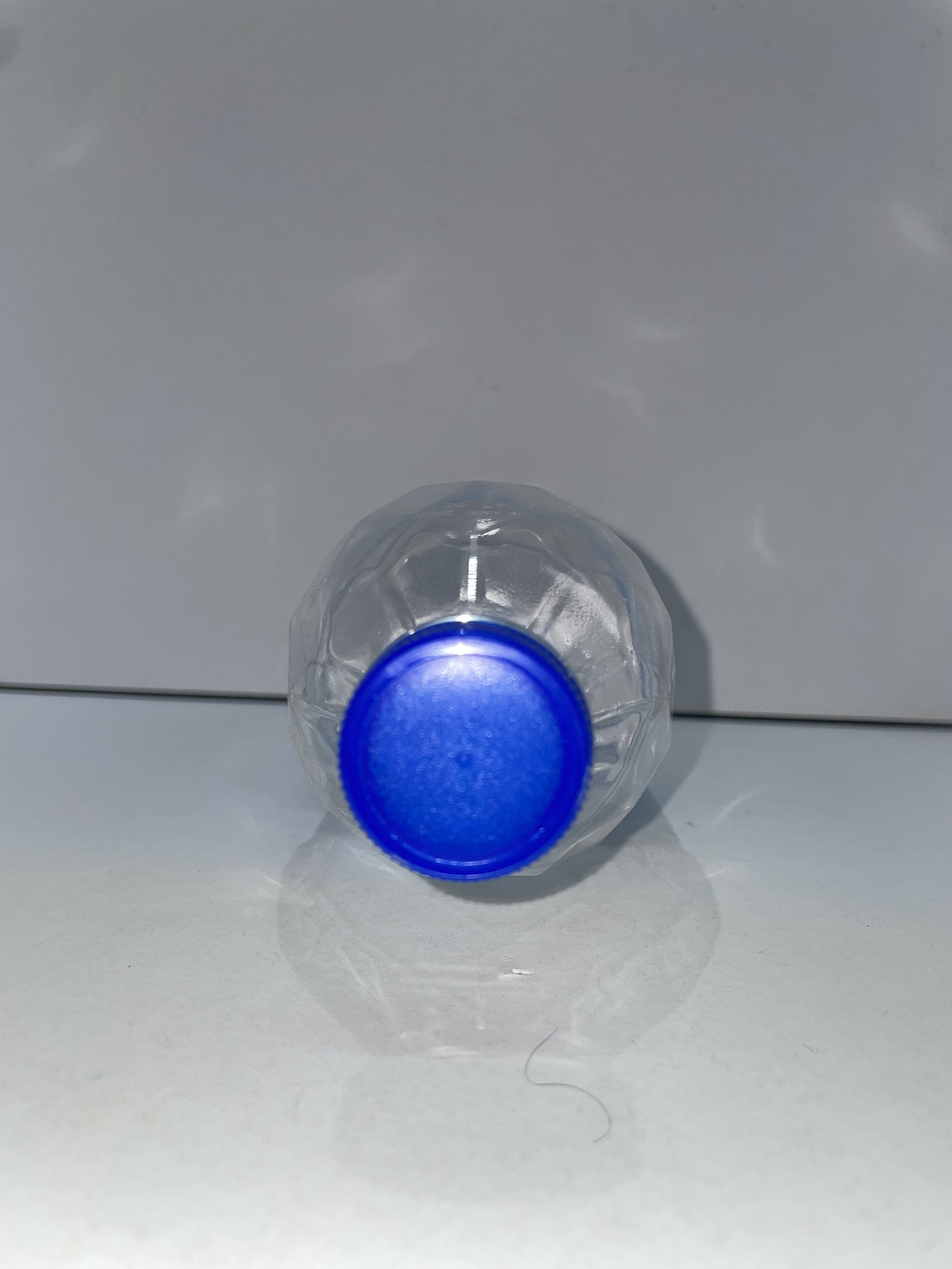Aquaspring 350ml: (288, 482, 674, 880)
